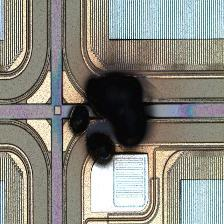PO CONTAMINATION: (63, 60, 161, 173)
